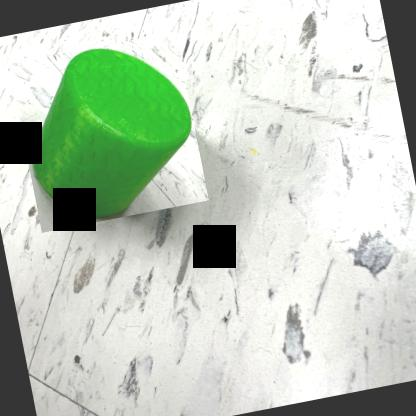green cylinder: (9, 30, 209, 232)
